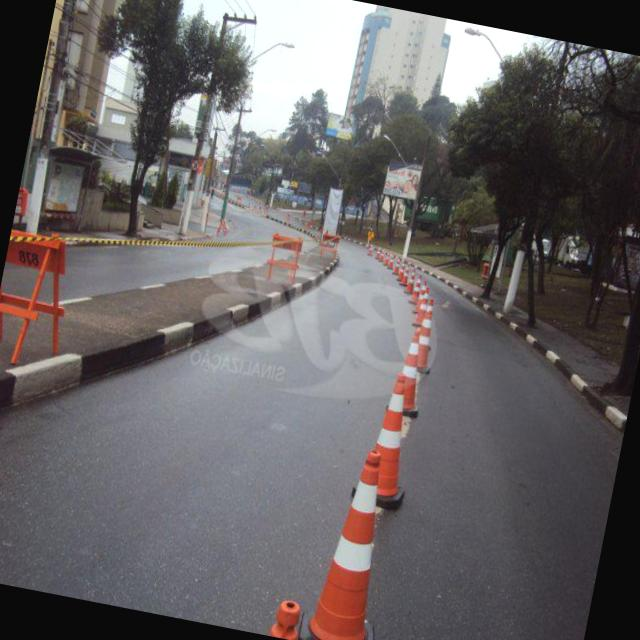cone: (294, 447, 411, 640), (348, 367, 424, 501), (402, 266, 420, 302), (361, 241, 378, 262), (391, 252, 403, 278), (382, 246, 392, 266)
